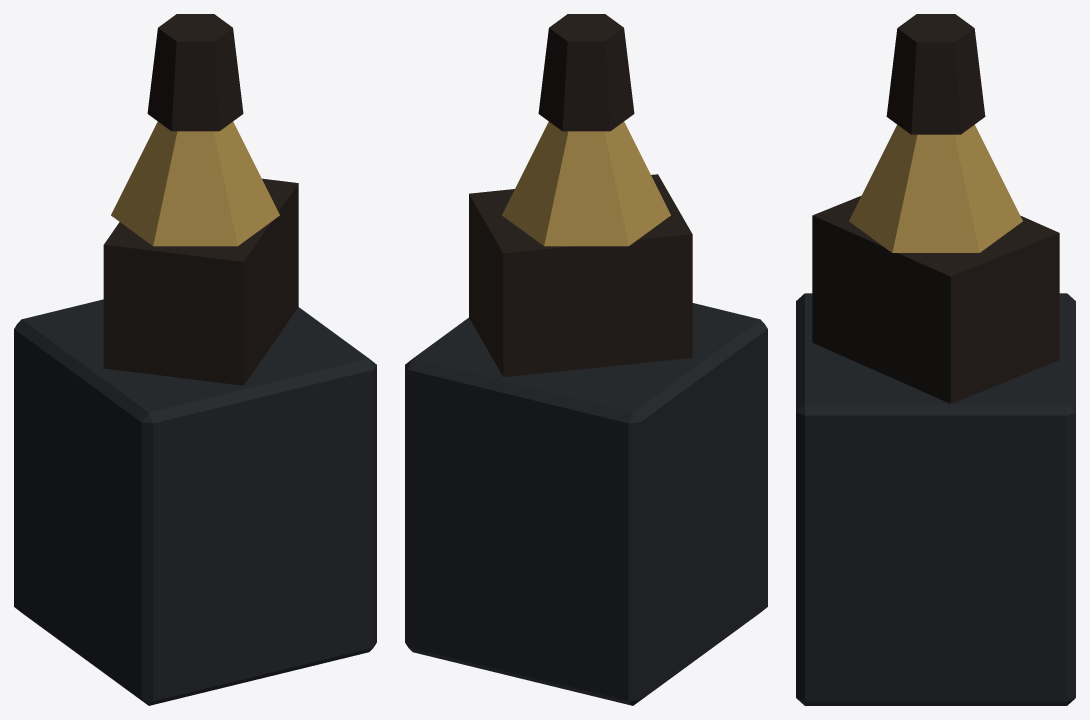
The model's file is sculpture-02.glb.
The picture shows the model from 3 angles, left to right: view 1: azimuth 30°, elevation 25°; view 2: azimuth 150°, elevation 25°; view 3: azimuth 270°, elevation 25°; orthographic projection. The views are drawn at different scales.
Visible parts, largest first — view 1: sculpture_02; view 2: sculpture_02; view 3: sculpture_02.
Part boxes in pixels (x1=…): sculpture_02: x1=14, y1=14, x2=376, y2=705; sculpture_02: x1=405, y1=14, x2=767, y2=705; sculpture_02: x1=796, y1=14, x2=1075, y2=705.
Size of the model in its own units: 0.1896 by 0.4651 by 0.1896.
